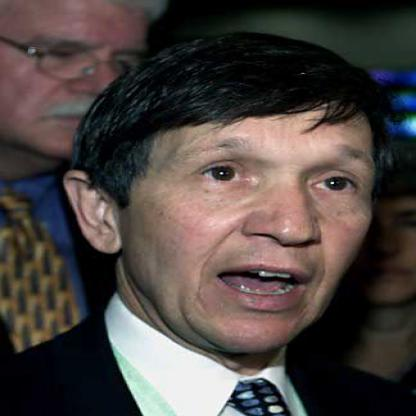face: (120, 39, 392, 355), (1, 1, 164, 160)
